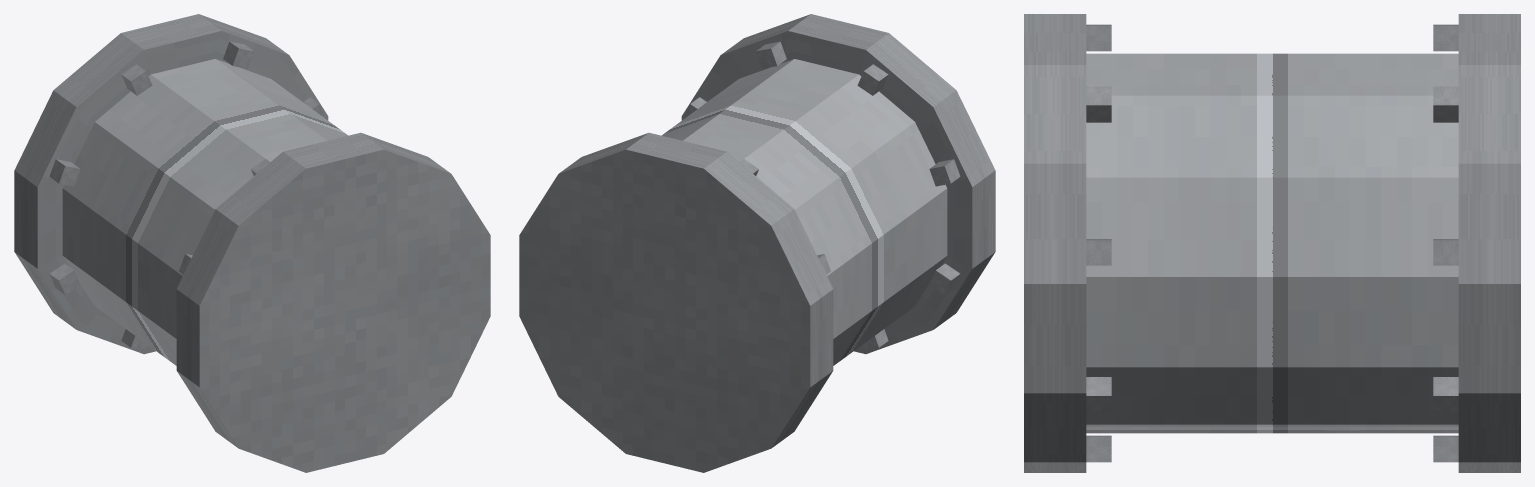
Rendered from item.obj.
3 renders of one model, left to right at view 1: azimuth 30°, elevation 25°; view 2: azimuth 150°, elevation 25°; view 3: azimuth 270°, elevation 25°, orthographic. The views are drawn at different scales.
Bounding box in the file's own units: 0.9062 × 0.9062 × 1.
